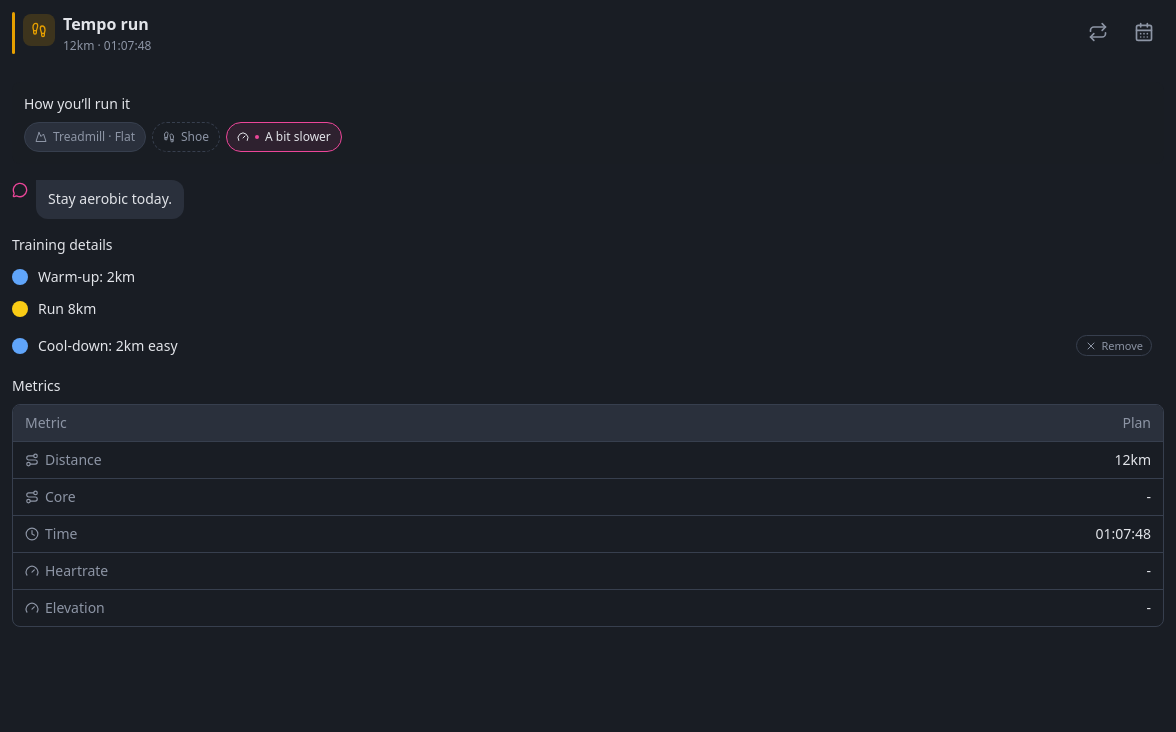
cool-down › puts Remove on the cool-down block, and swaps in a ghost row once it is gone
Expected: the text "Cool-down: 2km easy" is shown, [38,336,178,355]
Click the text "Remove" at (1114,346), box [1076,335,1152,356]
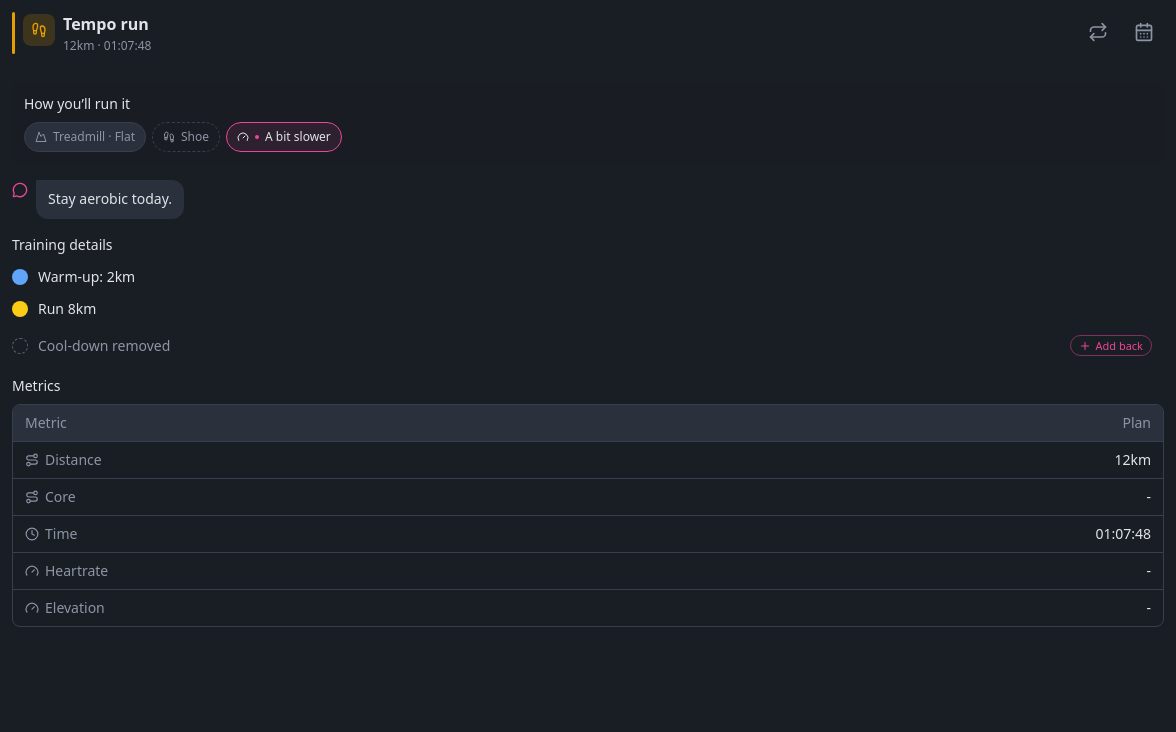
Expected: the text "Cool-down removed" is shown, [38,336,170,355]
Expected: the button "Cool-down: 2km easy" is gone
Expected: the text "Add back" is shown, [1070,335,1152,356]
